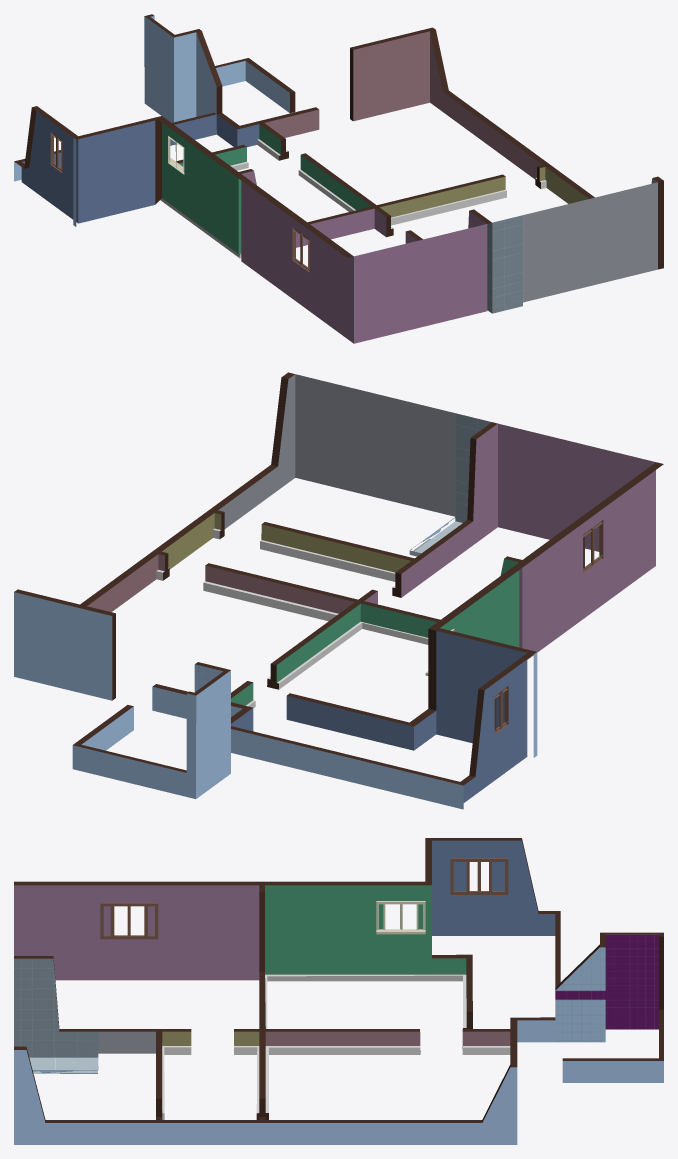
The model's file is NovaParedeLavanderia_JanelasSeparadasParedes.fbx.
3 views of the same model, one above another, from view 1: azimuth 30°, elevation 25°; view 2: azimuth 150°, elevation 25°; view 3: azimuth 270°, elevation 25° (orthographic). The views are drawn at different scales.
Visible parts, largest first — view 1: Plane, JanelasMaiores, JanelasMenores, Janelas; view 2: Plane, JanelasMaiores, JanelasMenores, Janelas; view 3: Plane, JanelasMenores, JanelasMaiores, Janelas.001, Janelas.
Part boxes in pixels (bbox=[...]): Plane: bbox=[14, 14, 663, 343]; JanelasMaiores: bbox=[14, 106, 353, 343]; JanelasMenores: bbox=[18, 106, 351, 339]; Janelas: bbox=[50, 132, 309, 270]; Plane: bbox=[14, 372, 655, 809]; JanelasMaiores: bbox=[428, 462, 663, 802]; JanelasMenores: bbox=[437, 462, 662, 785]; Janelas: bbox=[453, 520, 603, 734]; Plane: bbox=[14, 838, 663, 1144]; JanelasMenores: bbox=[14, 838, 560, 981]; JanelasMaiores: bbox=[14, 838, 559, 976]; Janelas.001: bbox=[100, 858, 508, 939]; Janelas: bbox=[110, 858, 491, 939].
Bounding box in the file's own units: 4247 × 926 × 5507.
